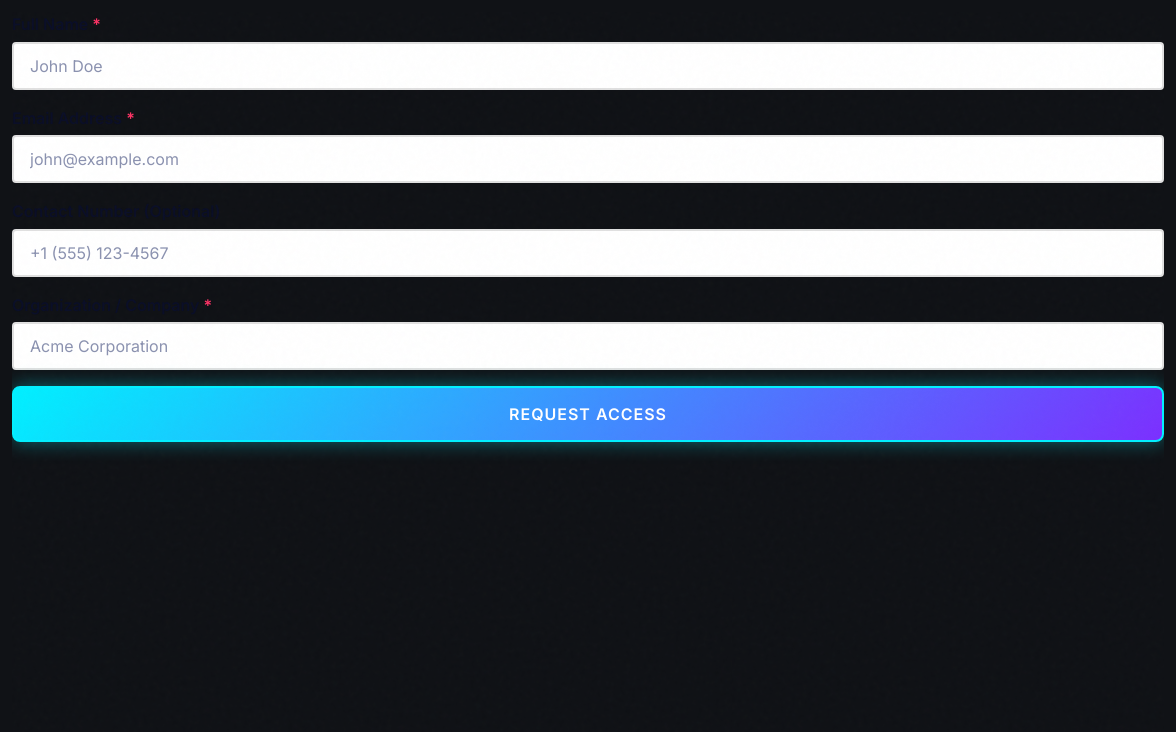
WaitlistForm › shows validation errors for required fields
Click the button "Request Access" at (588, 414), box [12,386,1164,442]
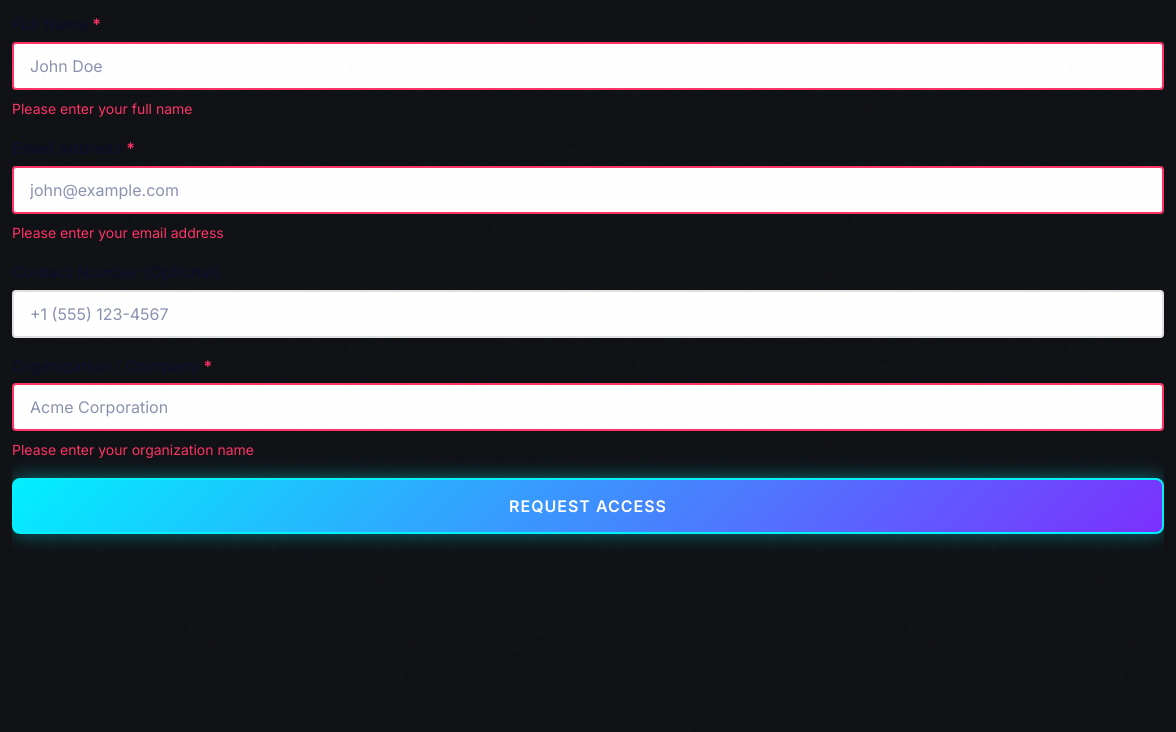
Result: the text "Please enter your full name" is shown at [12,100,192,117]
Result: the text "Please enter your email address" is shown at [12,224,224,241]
Result: the text "Please enter your organization name" is shown at [12,441,254,458]
